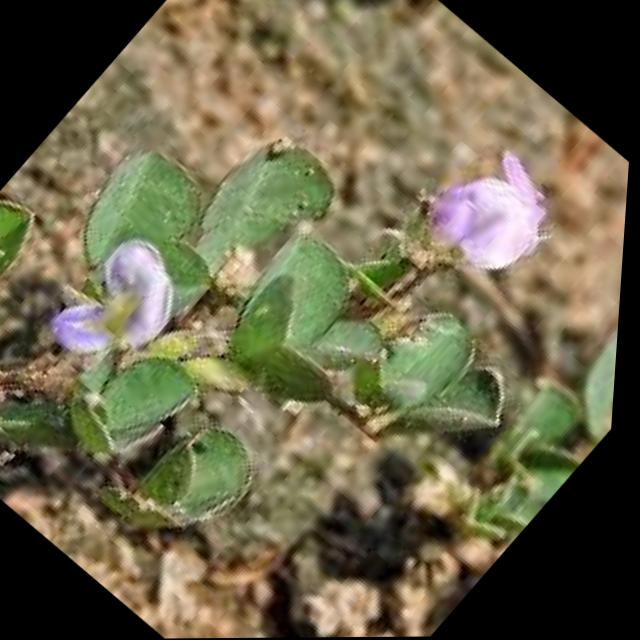Flower: (403, 122, 587, 296), (30, 217, 209, 392)
